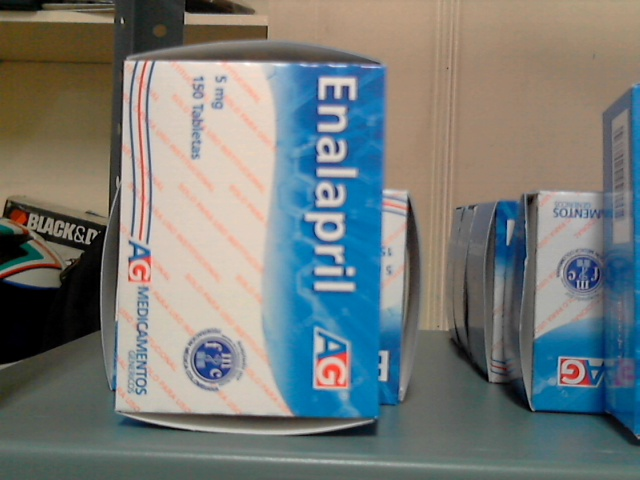AG: (117, 60, 383, 422)
